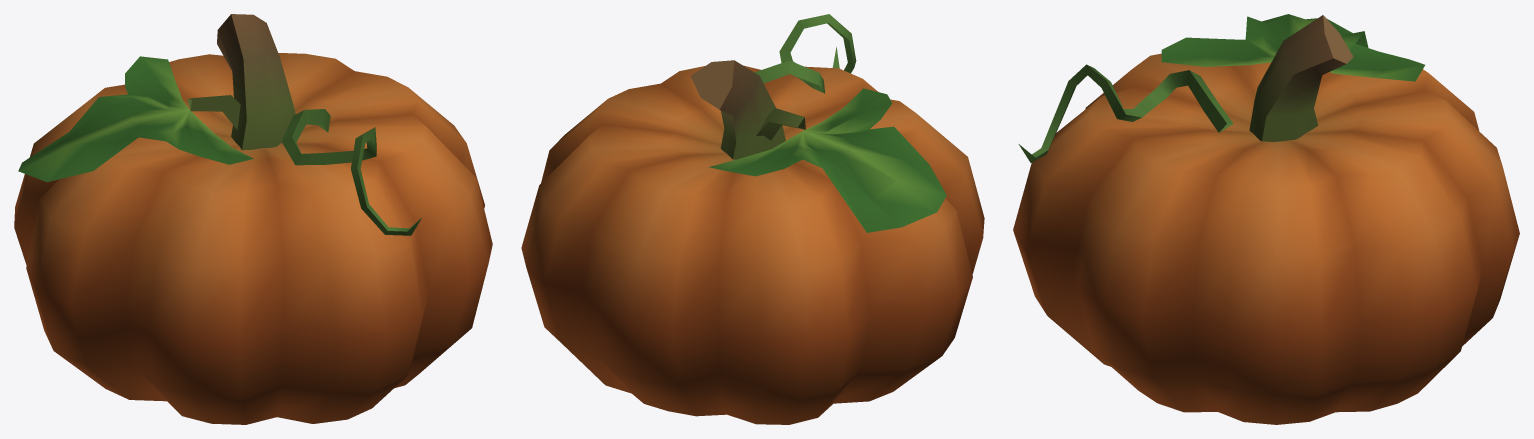
File: pumpkin_1.glb
3 views of the same model, side by side, from view 1: azimuth 30°, elevation 25°; view 2: azimuth 150°, elevation 25°; view 3: azimuth 270°, elevation 25° (orthographic). The views are drawn at different scales.
Visible parts, largest first — view 1: pumpkin_1; view 2: pumpkin_1; view 3: pumpkin_1.
Boxes of the visible parts, x1,y1,x2,y2 form: pumpkin_1: (14,14,492,424); pumpkin_1: (521,14,984,424); pumpkin_1: (1013,14,1519,424).
Size of the model in its own units: 0.2698 by 0.2014 by 0.2689.
